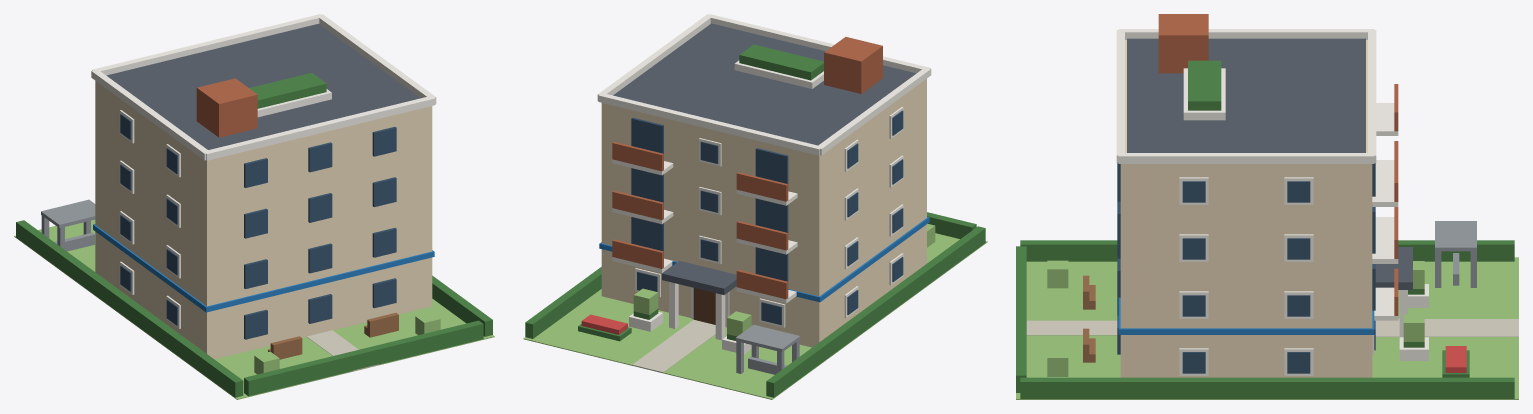
3 renders of one model, left to right at view 1: azimuth 30°, elevation 25°; view 2: azimuth 150°, elevation 25°; view 3: azimuth 270°, elevation 25°, orthographic. The views are drawn at different scales.
Visible parts, largest first — view 1: block, roof, hedge (×3), parapet (×4), window_glass (×12), lawn, plant_room, string_course, roof_planter_hedge, bike_shed_roof, tree_spot (×2), garden_path (+1 smaller); view 2: block, roof, lawn, hedge (×3), parapet (×4), balcony_wall (×6), window_glass (×6), plant_room, path, roof_planter_hedge, canopy, bike_shed_roof (+7 smaller); view 3: block, roof, lawn, hedge (×3), parapet (×4), window_glass (×8), balcony (×4), plant_room, path, string_course, tree_spot (×3), roof_planter_hedge (+6 smaller).
Part boxes in pixels (x1,y1,x2,y2): block: (95, 81, 432, 359); roof: (106, 23, 420, 149); hedge (×3): (16, 220, 492, 397); parapet (×4): (91, 14, 436, 160); window_glass (×12): (244, 126, 396, 339); lawn: (14, 219, 494, 399); plant_room: (196, 78, 257, 137); string_course: (93, 224, 434, 312); roof_planter_hedge: (249, 73, 326, 108); bike_shed_roof: (41, 199, 95, 228); tree_spot (×2): (254, 312, 440, 374); garden_path: (306, 330, 378, 370); block: (601, 78, 926, 347); roof: (613, 23, 916, 145); lawn: (523, 233, 987, 399); hedge (×3): (525, 212, 985, 397); parapet (×4): (597, 14, 931, 155); balcony_wall (×6): (612, 141, 788, 299); window_glass (×6): (631, 117, 788, 281); plant_room: (824, 37, 882, 93); path: (632, 320, 715, 372); roof_planter_hedge: (739, 44, 823, 80); canopy: (662, 260, 736, 294); bike_shed_roof: (735, 324, 800, 352); block: (1120, 40, 1372, 377); roof: (1127, 38, 1365, 152); lawn: (1016, 257, 1518, 399); hedge (×3): (1016, 240, 1514, 398); parapet (×4): (1116, 29, 1376, 163); window_glass (×8): (1182, 181, 1310, 373); balcony (×4): (1372, 103, 1398, 320); plant_room: (1158, 14, 1208, 73); path: (1375, 319, 1518, 336); string_course: (1118, 297, 1374, 334); tree_spot (×3): (1047, 260, 1424, 376); roof_planter_hedge: (1188, 60, 1221, 110).
Size of the model in its own units: 16 by 14.17 by 24.
